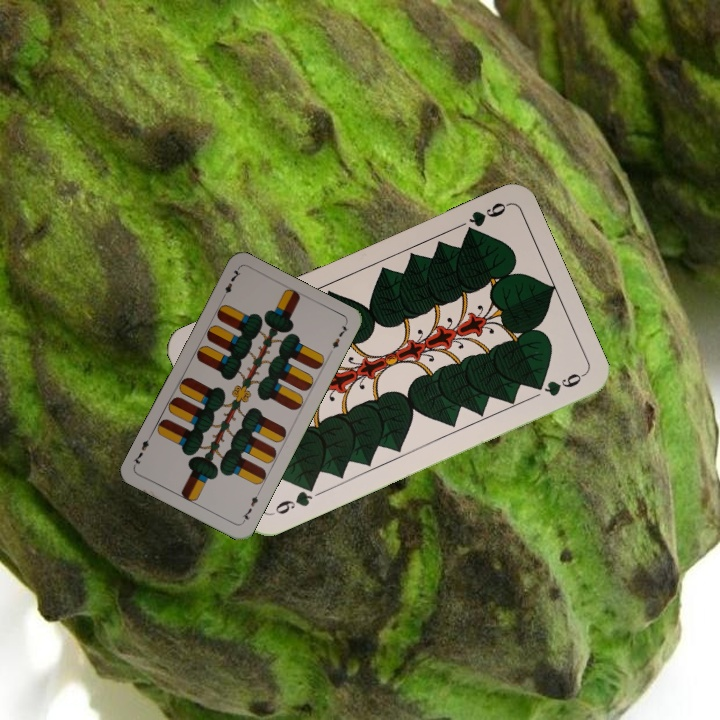E7: (218, 265, 243, 302), (239, 488, 263, 526)
G9: (459, 198, 511, 240), (265, 480, 317, 519)
